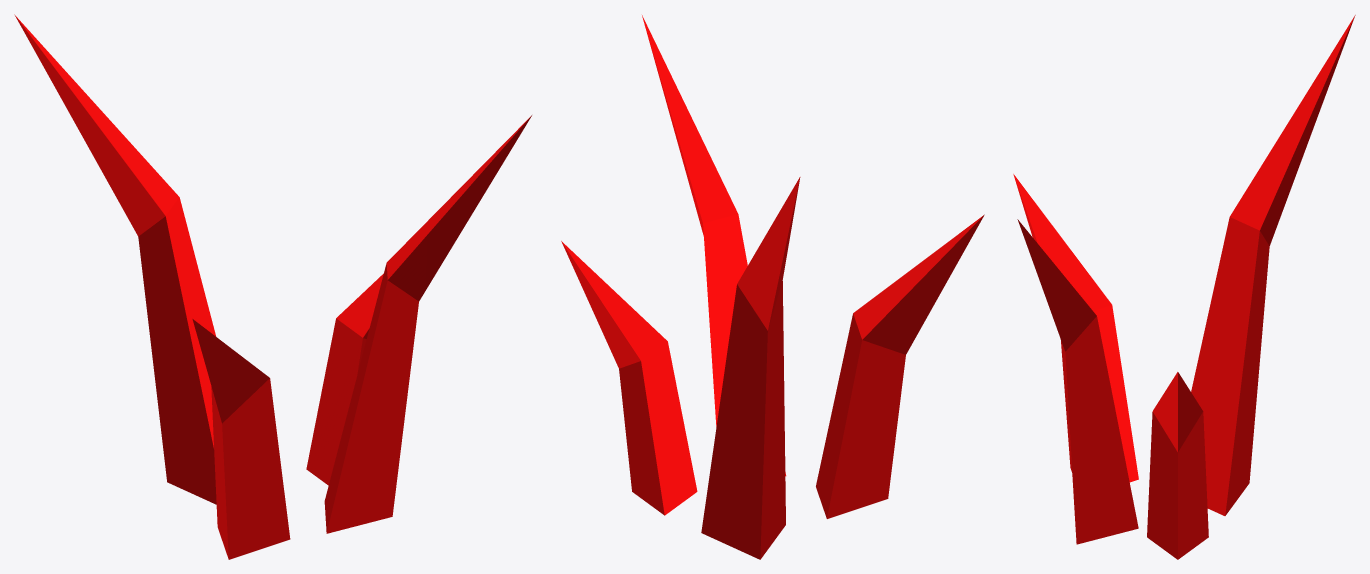
Rendered from grass1.fbx.
3 views of the same model, side by side, from view 1: azimuth 30°, elevation 25°; view 2: azimuth 150°, elevation 25°; view 3: azimuth 270°, elevation 25° (orthographic). The views are drawn at different scales.
Parts seen in each view (by area): view 1: grass1; view 2: grass1; view 3: grass1.
Part boxes in pixels (<box>): grass1: <box>14,14,531,559</box>; grass1: <box>561,15,984,559</box>; grass1: <box>1013,15,1355,559</box>.
Size of the model in its own units: 0.8101 by 1.02 by 0.7442.
